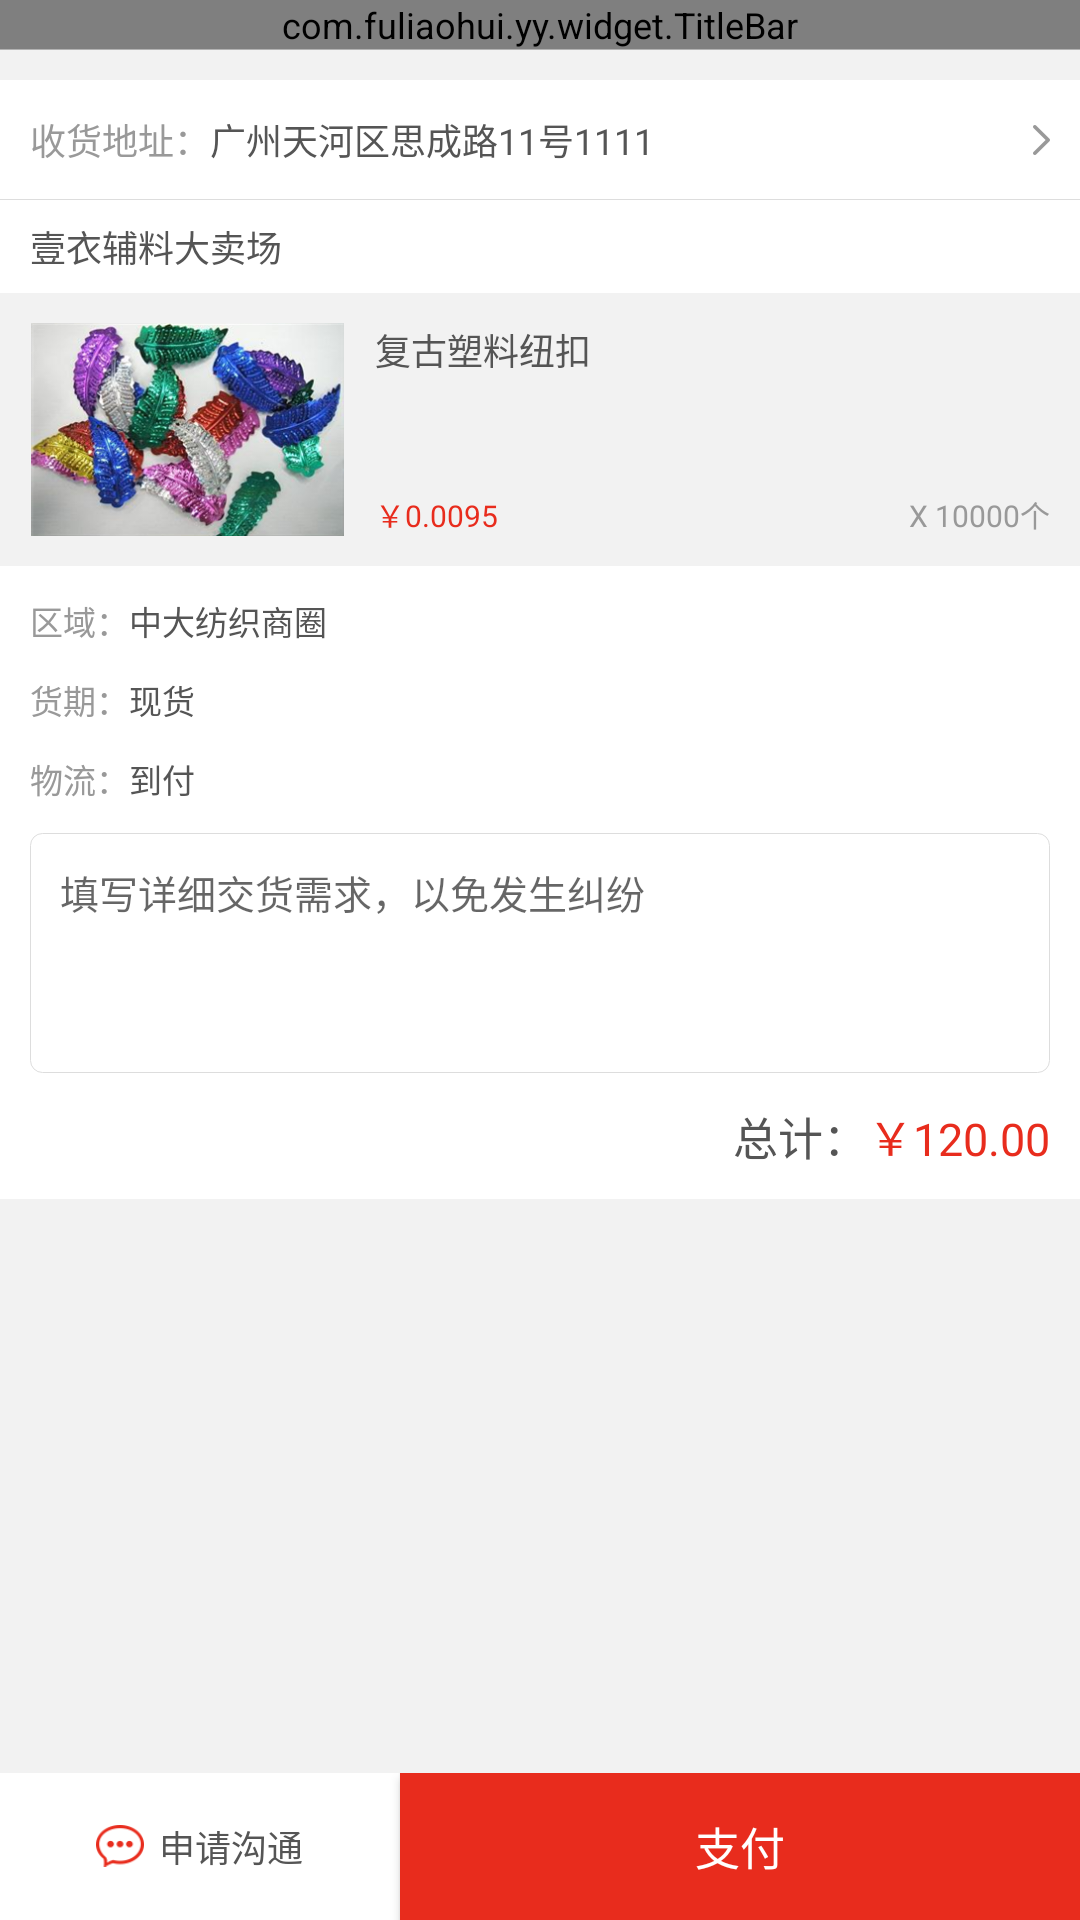

Icons on this 1080x1920 Android screen, each with its box as Rect(x1, y1, x2, y2):
product: Rect(31, 323, 344, 536)
talk: Rect(96, 1825, 144, 1867)
